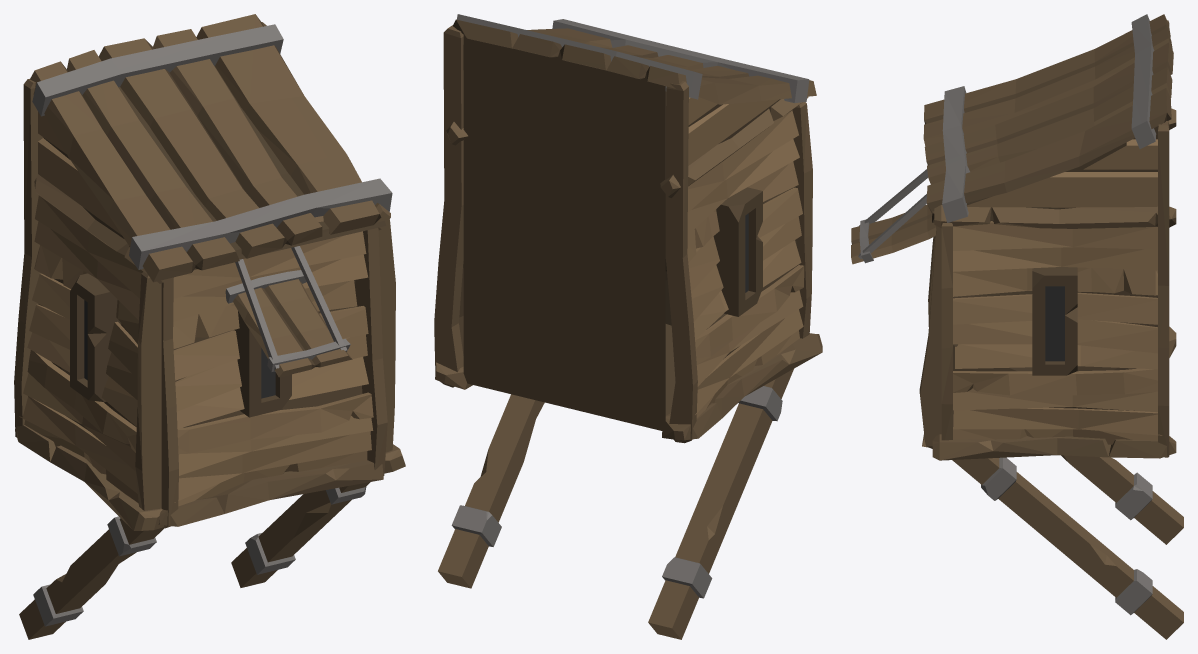
Rendered from SM_Bld_Castle_Wood_Battlement_04.gltf.
3 renders of one model, left to right at view 1: azimuth 30°, elevation 25°; view 2: azimuth 150°, elevation 25°; view 3: azimuth 270°, elevation 25°, orthographic. The views are drawn at different scales.
Parts seen in each view (by area): view 1: SM_Bld_Castle_Wood_Battlement_04; view 2: SM_Bld_Castle_Wood_Battlement_04; view 3: SM_Bld_Castle_Wood_Battlement_04.
Part boxes in pixels (x1,y1,x2,y2): SM_Bld_Castle_Wood_Battlement_04: (14, 14, 405, 639); SM_Bld_Castle_Wood_Battlement_04: (434, 14, 822, 639); SM_Bld_Castle_Wood_Battlement_04: (851, 14, 1183, 639).
Bounding box in the file's own units: 1.79 × 3.62 × 2.08.
1 material, 1 textured.
